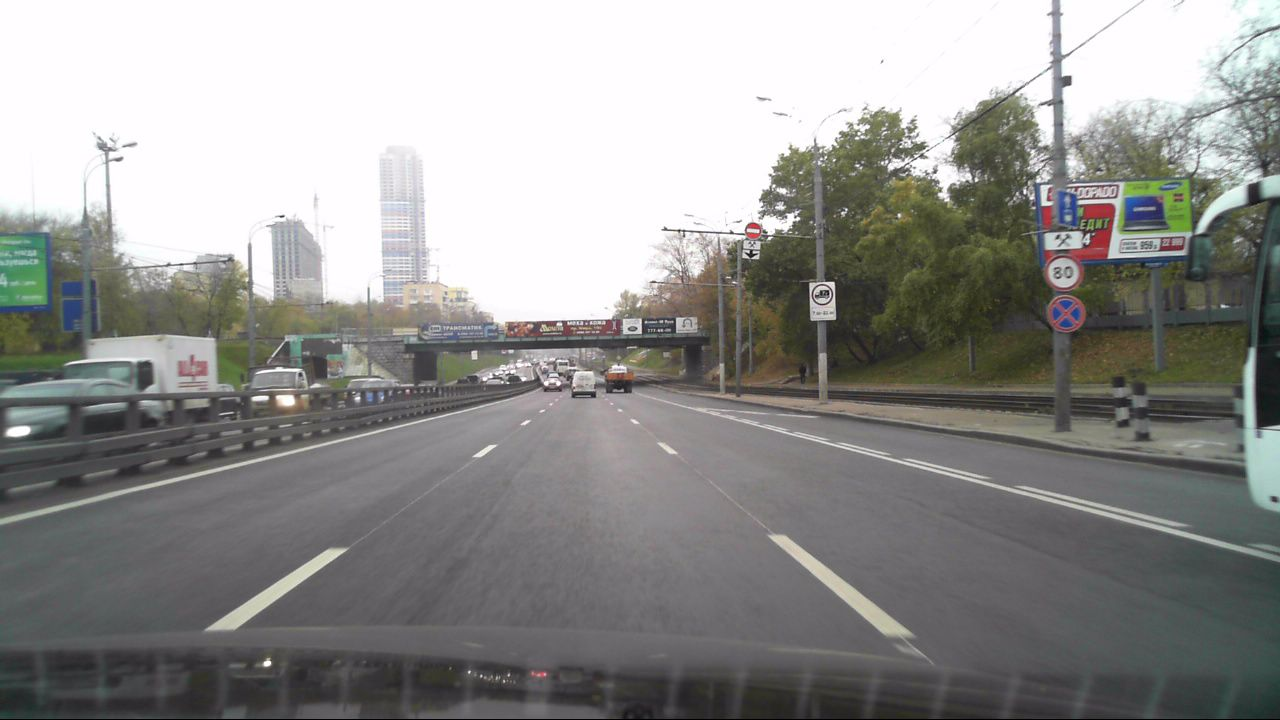No Parking: (1046, 293, 1085, 334)
